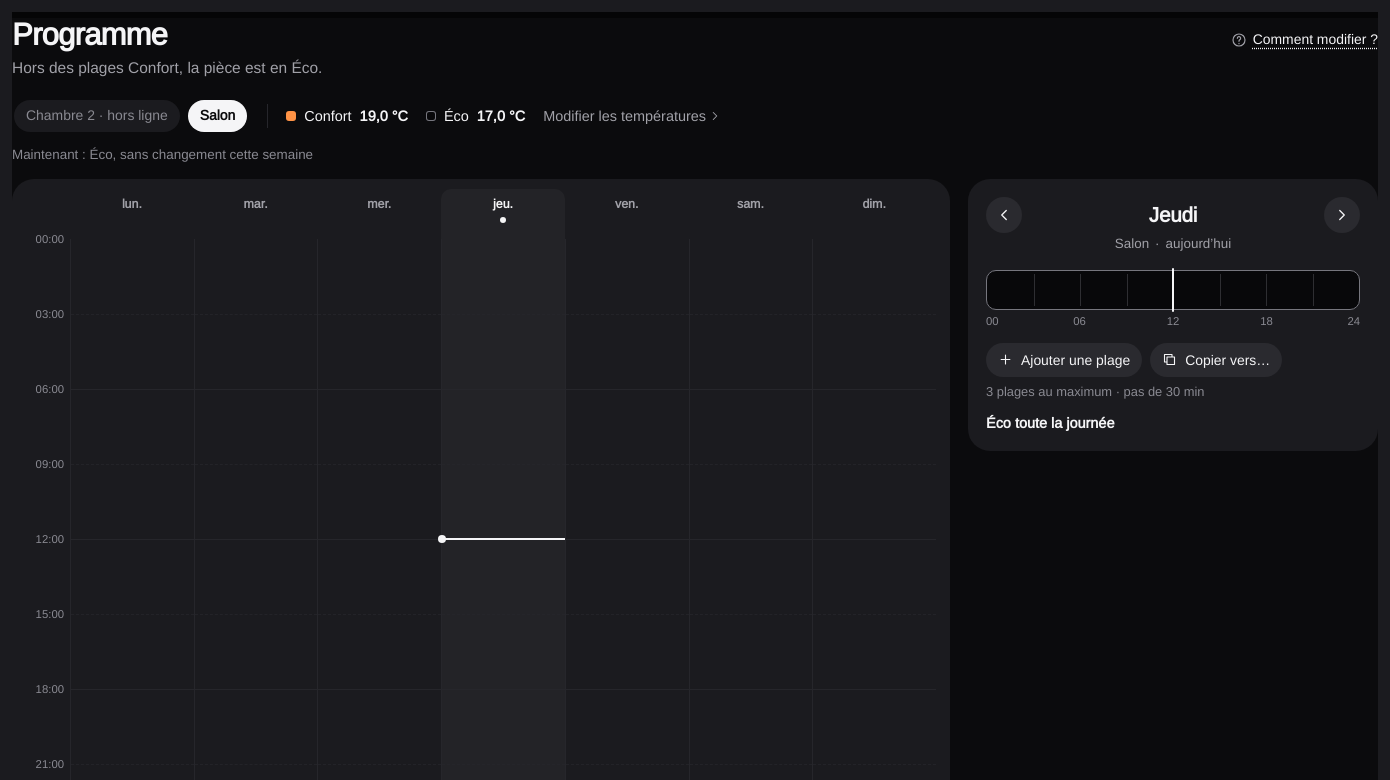
Test: /schedule: offline rooms › an offline room shows its last known week read-only, with a calm notice and nothing to send
Click the radio button named "Chambre 2 hors ligne" at (97, 116), box [14,100,180,132]
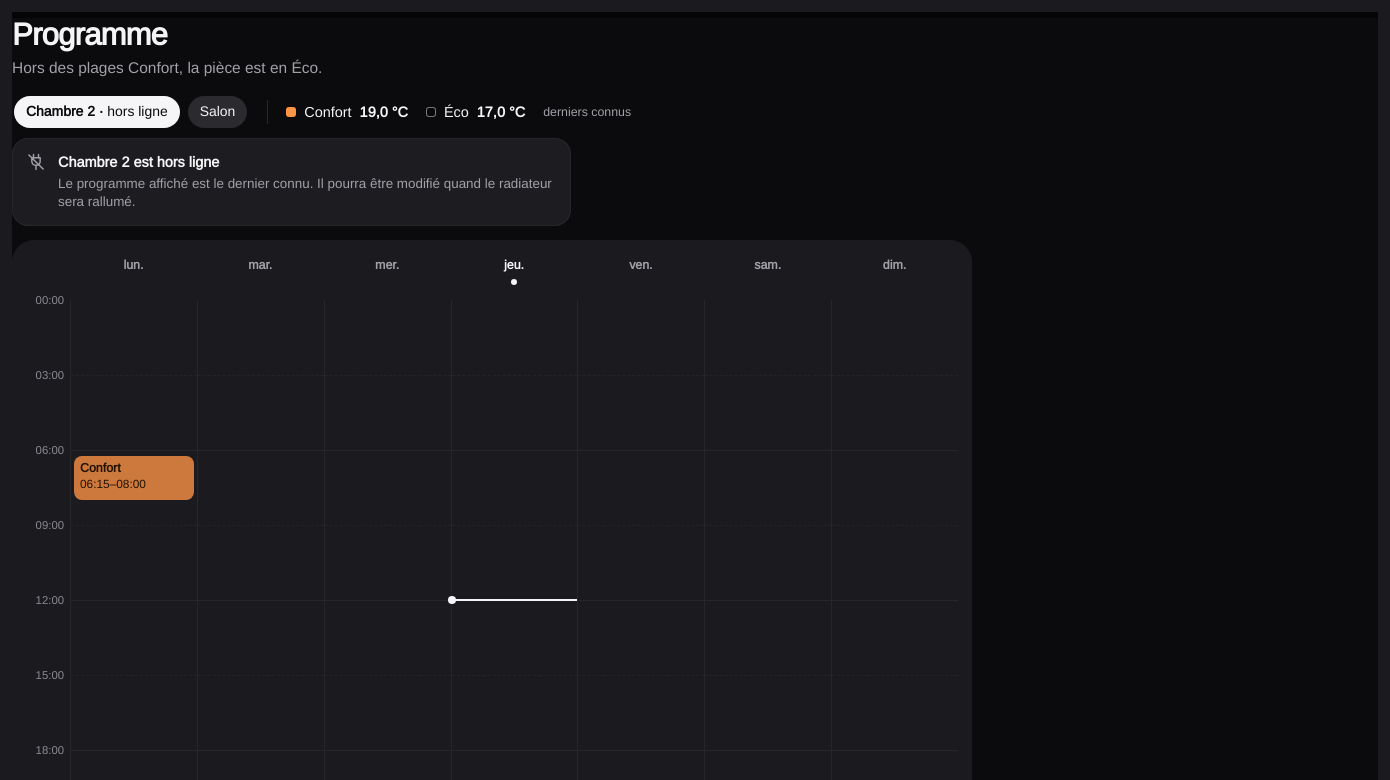
Result: the message shows "Chambre 2 est hors ligne" at [58,153,219,171]
Result: the message shows "Le programme affiché est le dernier connu." at [58,174,552,210]
Result: the button "Ajouter une plage" is gone
